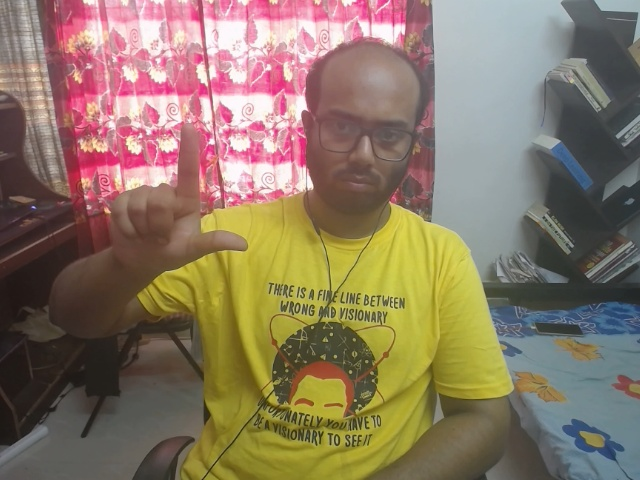seven: (79, 110, 264, 293)
